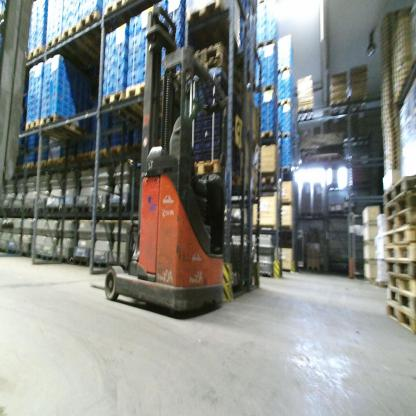forklift: (98, 8, 239, 327)
pallet: (190, 40, 245, 82), (102, 84, 147, 130), (186, 58, 244, 93), (125, 76, 166, 123), (44, 32, 91, 71), (40, 110, 87, 145), (75, 10, 119, 45), (60, 21, 99, 59), (192, 157, 243, 186), (186, 1, 225, 36), (381, 173, 415, 212), (384, 190, 416, 221), (387, 298, 416, 331), (380, 207, 414, 235), (383, 256, 414, 281), (388, 287, 415, 314), (383, 224, 414, 246), (385, 240, 415, 261), (387, 273, 416, 294), (106, 2, 130, 27), (24, 113, 44, 135), (259, 172, 276, 193), (256, 36, 277, 53), (27, 42, 44, 63), (109, 139, 128, 157), (350, 95, 365, 117), (331, 99, 348, 118), (108, 205, 137, 215), (261, 127, 276, 145), (89, 200, 108, 214), (91, 147, 108, 160), (259, 85, 277, 97), (125, 1, 148, 10), (91, 259, 109, 270), (77, 149, 91, 163), (60, 154, 76, 166), (44, 205, 62, 215), (53, 254, 70, 264), (326, 208, 341, 219), (33, 157, 45, 170), (44, 158, 60, 167), (18, 205, 34, 214), (73, 259, 93, 266), (274, 98, 293, 105), (64, 204, 75, 216), (281, 134, 295, 143), (278, 67, 293, 75), (307, 265, 320, 274), (74, 204, 90, 211), (34, 204, 44, 215), (281, 165, 291, 175), (22, 162, 34, 170), (33, 250, 41, 261), (40, 253, 52, 260)
small_load_carrier: (128, 29, 150, 54), (114, 56, 129, 72), (129, 15, 142, 33), (167, 13, 185, 26), (102, 52, 116, 68), (168, 22, 186, 34), (102, 31, 116, 46), (141, 62, 152, 81), (115, 32, 128, 48), (127, 68, 139, 85), (103, 64, 115, 81), (117, 22, 129, 39), (115, 44, 128, 59), (127, 51, 139, 67), (105, 42, 116, 59), (114, 72, 126, 87), (102, 79, 113, 95), (173, 33, 186, 46), (141, 48, 152, 62), (169, 6, 186, 15), (50, 70, 65, 79), (51, 87, 63, 98), (168, 0, 184, 7), (24, 106, 35, 116), (40, 108, 52, 117), (50, 79, 63, 87), (41, 81, 52, 90), (62, 98, 69, 112), (65, 66, 72, 80), (40, 95, 52, 103), (45, 59, 53, 71), (55, 60, 64, 70), (52, 105, 61, 115), (41, 87, 52, 95), (42, 67, 51, 76), (34, 91, 42, 101), (28, 70, 36, 80), (27, 86, 35, 96), (62, 90, 69, 101), (45, 73, 53, 82), (25, 114, 34, 122), (33, 104, 41, 113), (34, 97, 42, 106), (25, 101, 34, 109), (41, 102, 52, 108), (34, 84, 42, 92), (51, 98, 61, 104), (35, 77, 41, 87), (63, 83, 69, 93), (64, 76, 70, 85), (28, 80, 34, 87), (37, 70, 42, 77), (27, 96, 34, 101), (33, 112, 38, 118)
